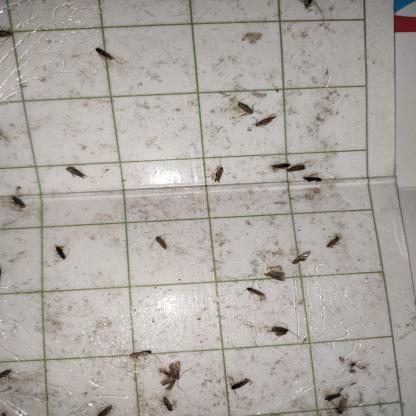prays_oleae: (223, 367, 255, 406), (156, 356, 186, 393), (209, 143, 227, 195), (94, 36, 117, 74), (247, 108, 280, 132), (127, 337, 153, 366), (319, 377, 342, 409), (61, 159, 89, 185), (50, 237, 72, 269), (236, 84, 256, 119), (242, 282, 264, 312), (291, 244, 316, 270), (288, 155, 310, 184), (270, 316, 292, 343), (268, 150, 288, 179), (323, 226, 344, 253), (0, 362, 15, 398), (266, 257, 284, 284), (8, 190, 25, 216), (158, 392, 178, 414), (154, 232, 168, 256), (301, 167, 323, 182), (95, 402, 115, 416)
